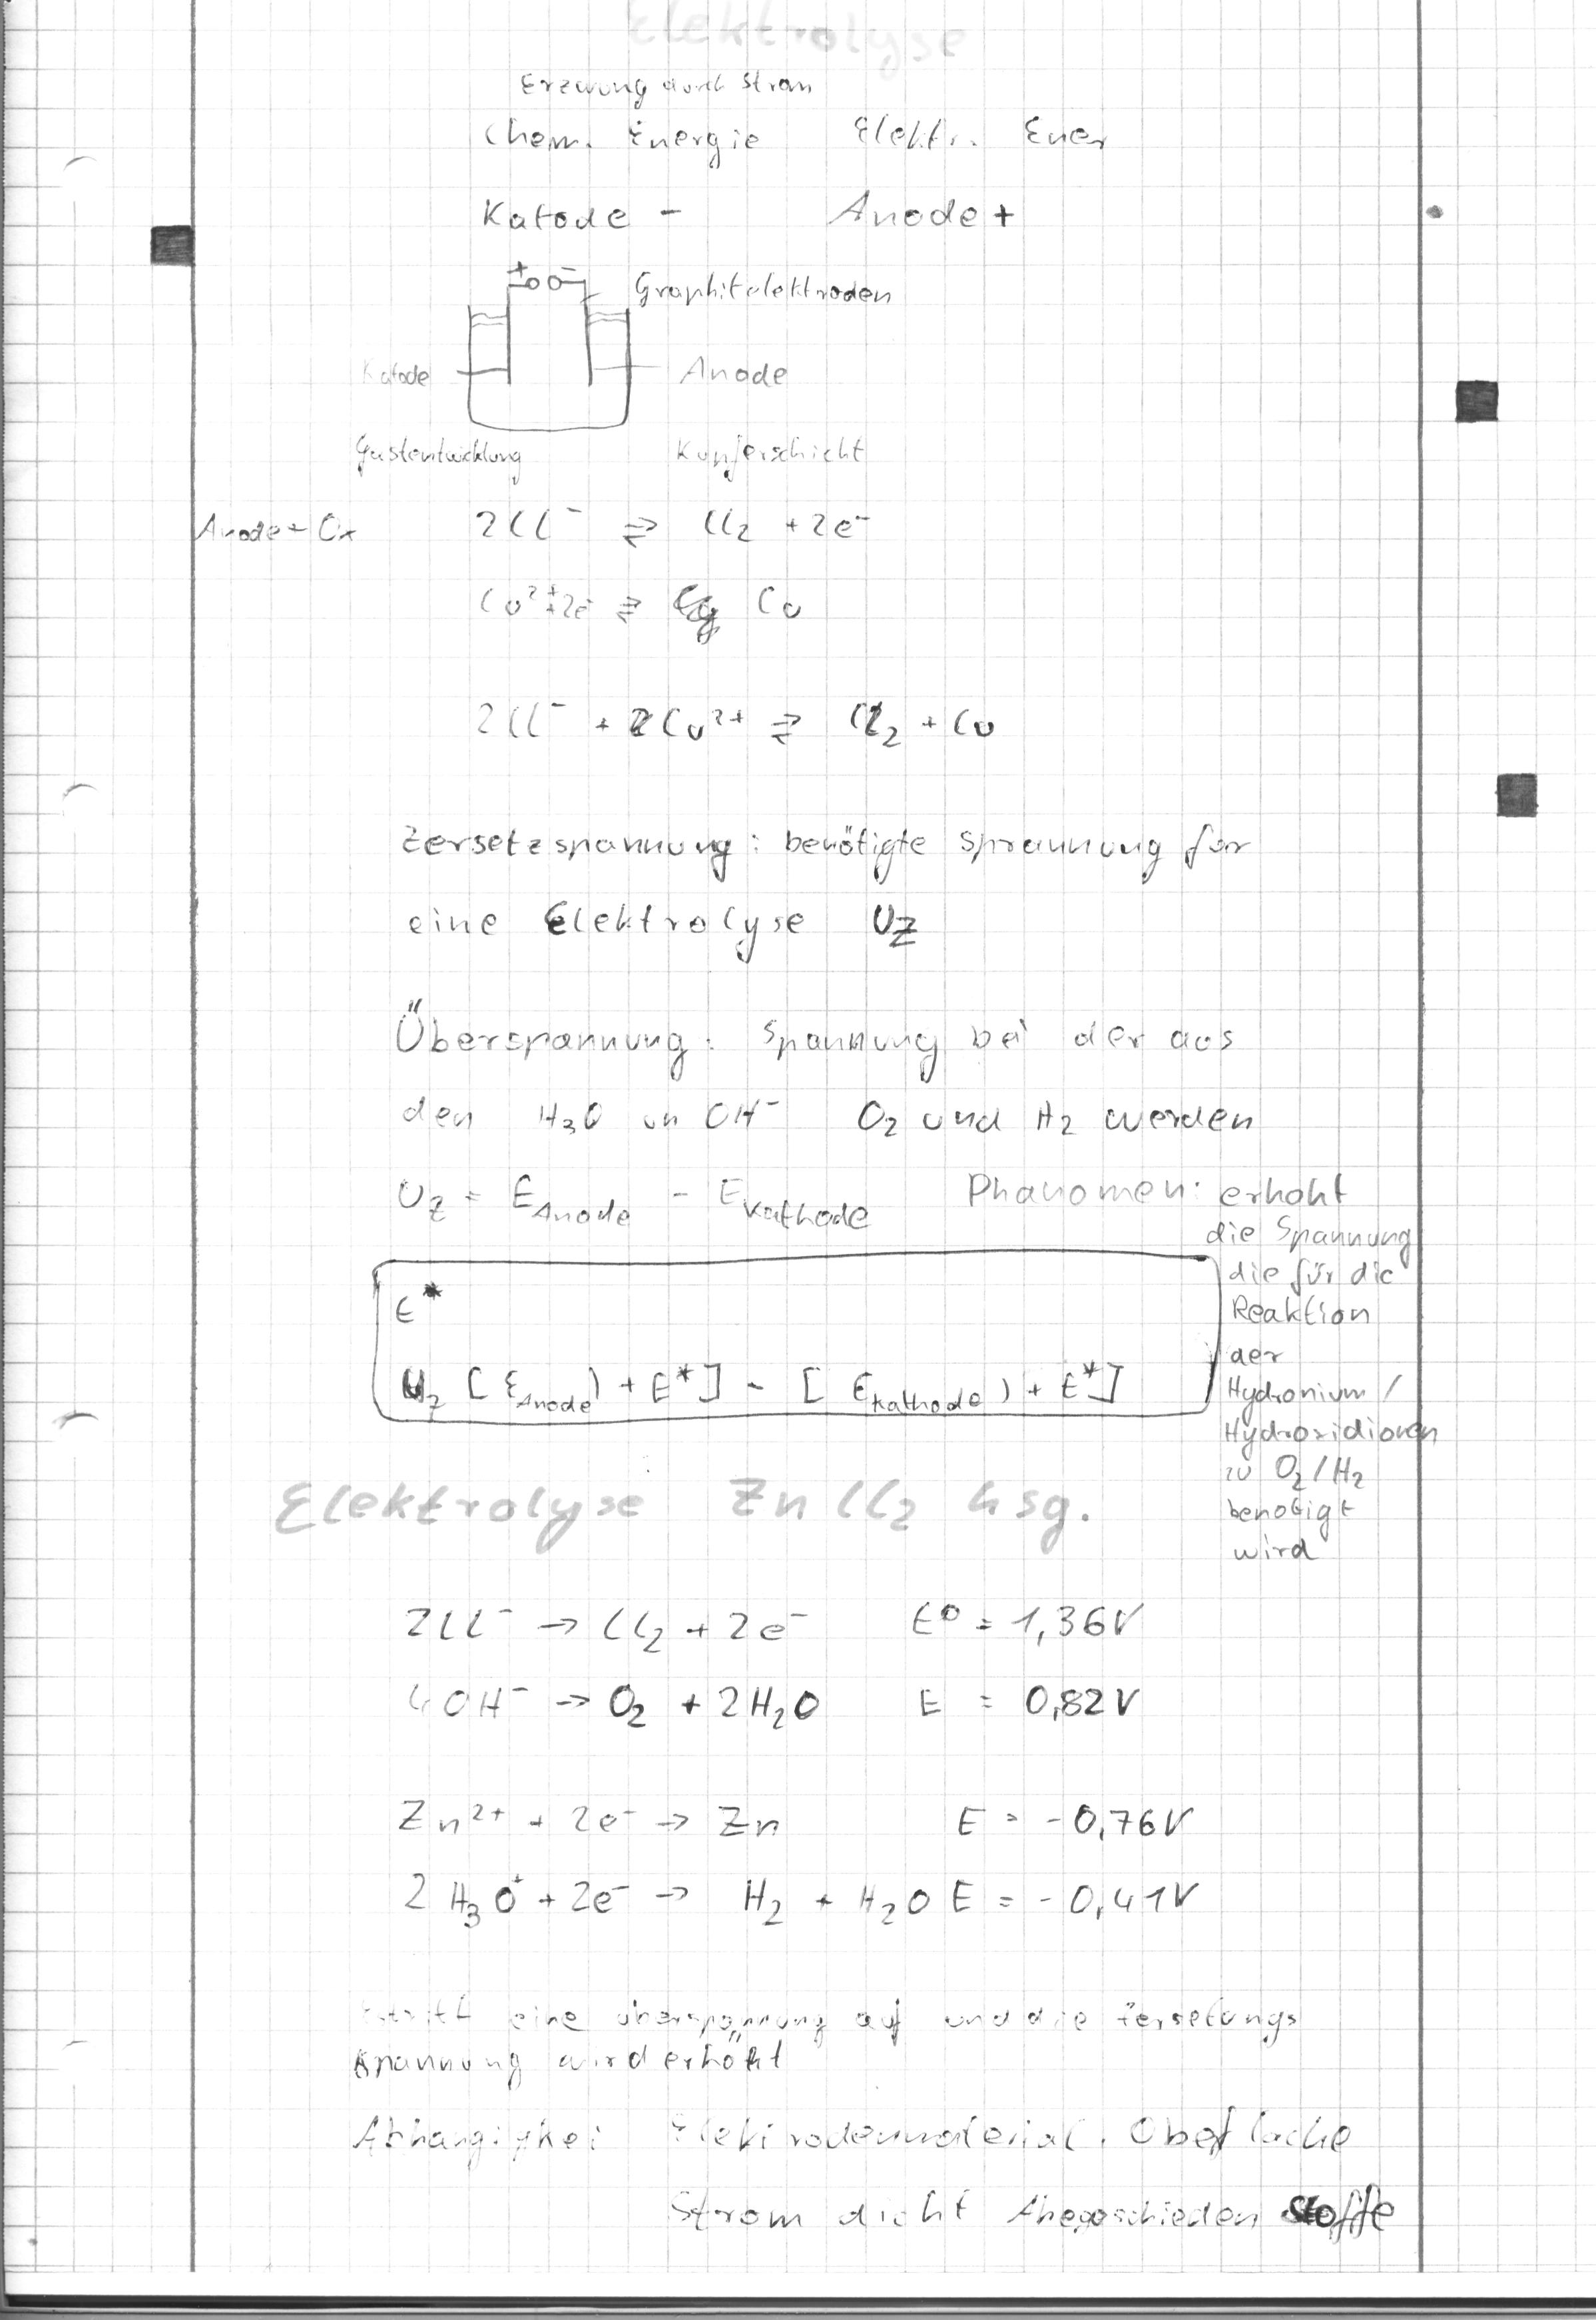word: (383, 985, 1262, 1245), (384, 806, 1262, 966), (394, 1788, 1217, 1938), (661, 2102, 1398, 2253), (390, 1595, 1155, 1735), (347, 1988, 1315, 2096), (475, 111, 1121, 237), (460, 494, 885, 649), (390, 1346, 1137, 1434), (471, 679, 1009, 763), (339, 2099, 617, 2185), (628, 263, 902, 316)
